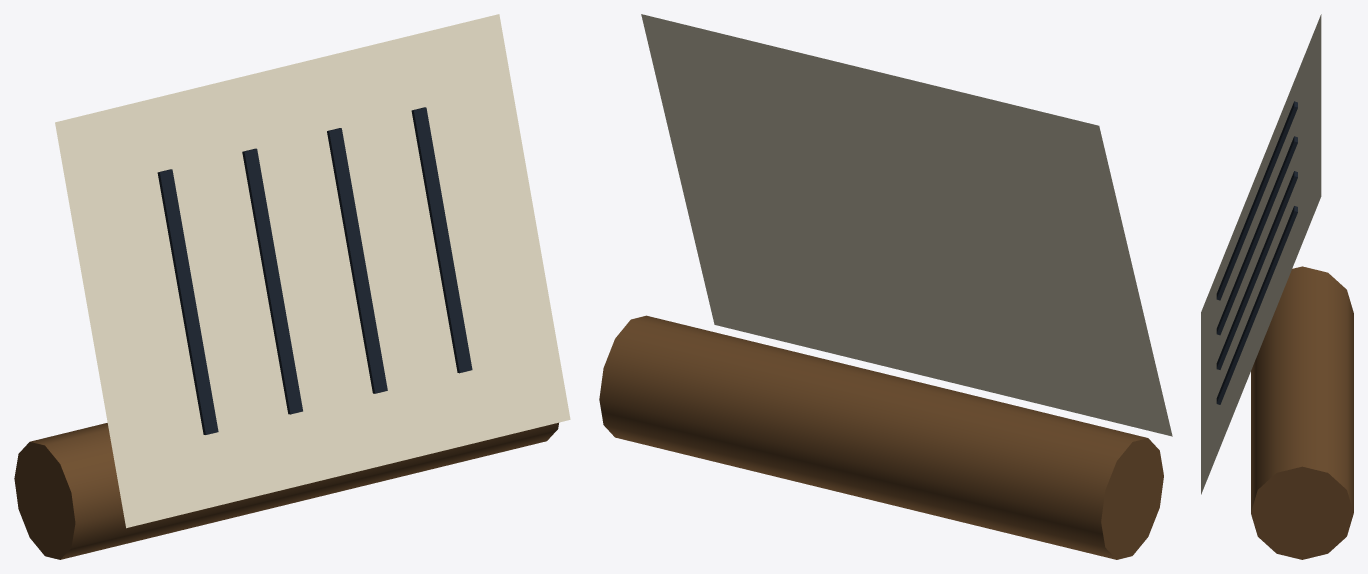
The model's file is prop-scroll.glb.
3 renders of one model, left to right at view 1: azimuth 30°, elevation 25°; view 2: azimuth 150°, elevation 25°; view 3: azimuth 270°, elevation 25°, orthographic. The views are drawn at different scales.
Visible parts, largest first — view 1: scrollSheet, scrollRod, line1, line0, line3, line2; view 2: scrollSheet, scrollRod; view 3: scrollRod, scrollSheet, line1, line0, line2, line3.
Boxes of the visible parts, bbox=[...] form: scrollSheet: bbox=[55, 14, 570, 528]; scrollRod: bbox=[14, 422, 558, 559]; line1: bbox=[242, 148, 302, 414]; line0: bbox=[157, 169, 218, 434]; line3: bbox=[411, 107, 472, 373]; line2: bbox=[327, 128, 387, 393]; scrollSheet: bbox=[641, 14, 1172, 436]; scrollRod: bbox=[599, 315, 1163, 559]; scrollRod: bbox=[1251, 266, 1353, 559]; scrollSheet: bbox=[1201, 14, 1321, 494]; line1: bbox=[1216, 136, 1297, 335]; line0: bbox=[1216, 101, 1297, 300]; line2: bbox=[1216, 171, 1297, 369]; line3: bbox=[1216, 206, 1297, 404].
Size of the model in its own units: 0.46 by 0.3797 by 0.1483.
